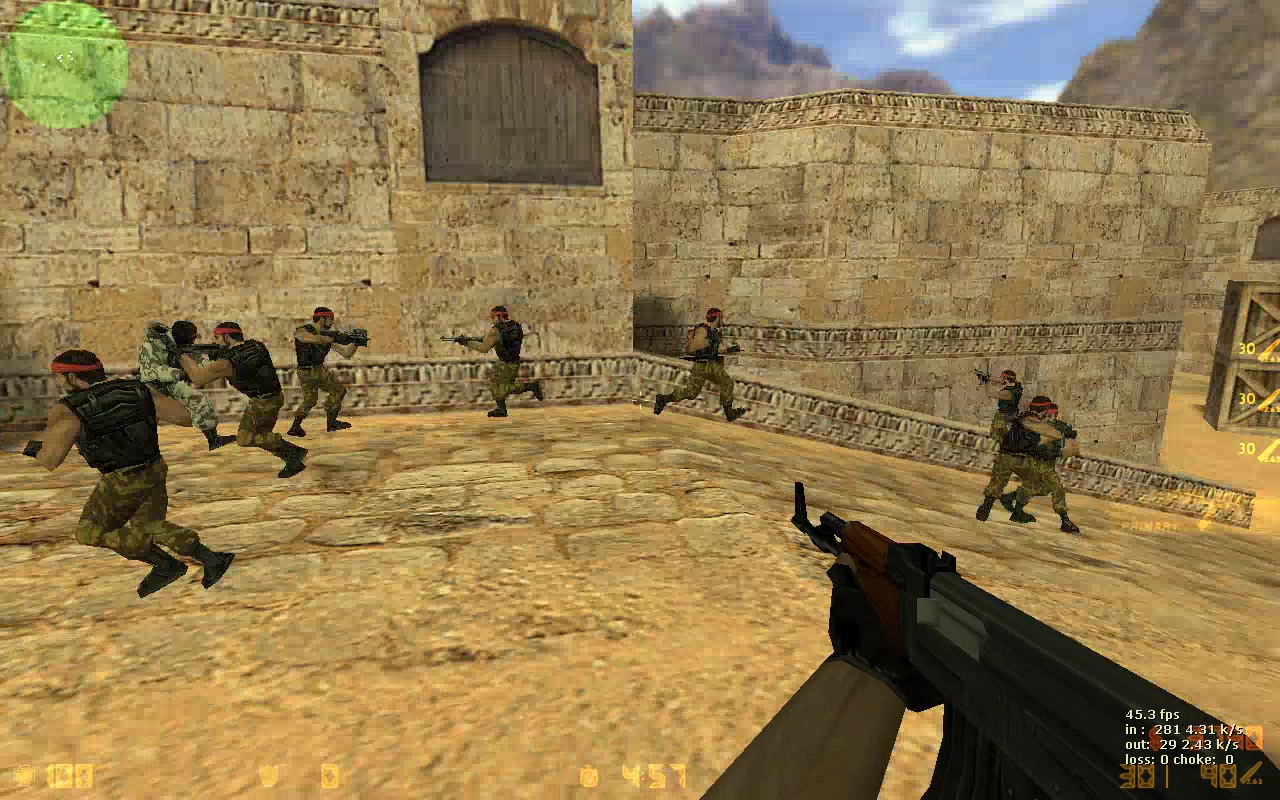terr1: (23, 349, 238, 599), (172, 321, 308, 487), (653, 305, 748, 424), (977, 393, 1062, 526), (458, 303, 547, 417), (292, 308, 370, 433), (969, 369, 1038, 452)
terr2: (121, 312, 236, 456)
